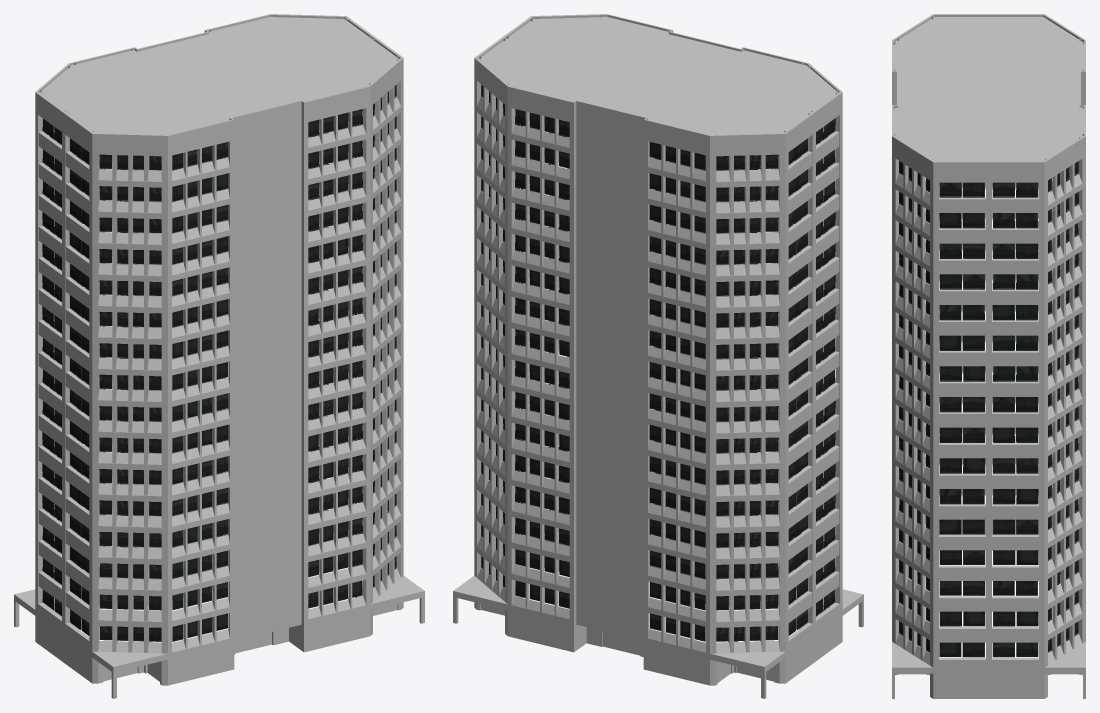
3 renders of one model, left to right at view 1: azimuth 30°, elevation 25°; view 2: azimuth 150°, elevation 25°; view 3: azimuth 270°, elevation 25°, orthographic. The views are drawn at different scales.
Visible parts, largest first — view 1: BC-025; view 2: BC-025; view 3: BC-025.
Part boxes in pixels (<box>): BC-025: <box>14,14,424,698</box>; BC-025: <box>453,14,863,698</box>; BC-025: <box>892,14,1085,698</box>.
Size of what is drawn, in the model's own units: 40.77 by 68.74 by 22.49.
